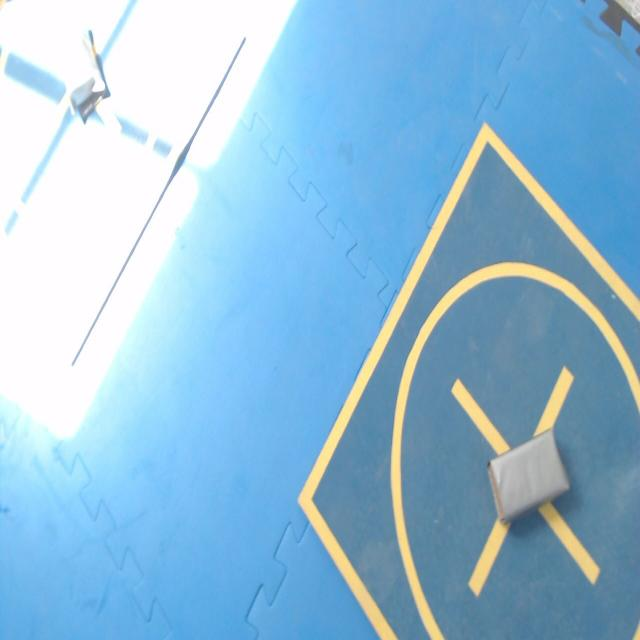direita: (488, 428, 570, 523)
esquerda: (62, 28, 110, 123)
